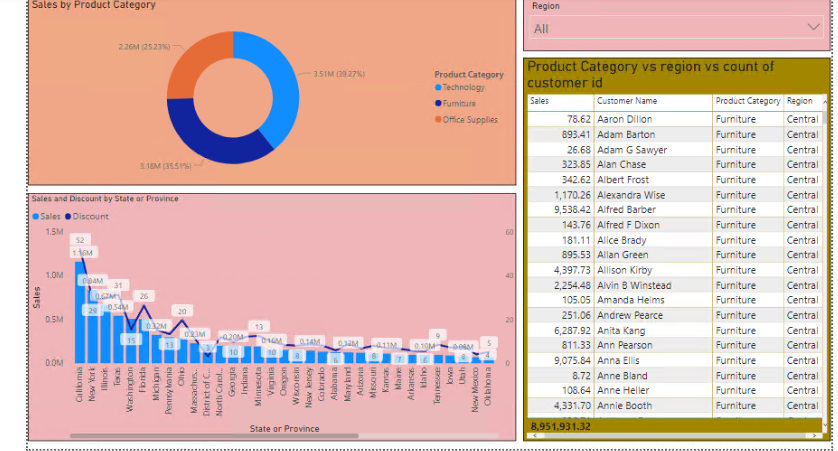

Layout of this report page (visuals, bound fields, positions):
{"tool":"powerbi","page":{"name":"Sales_report","canvas":[1280,720],"ordinal":0},"visuals":[{"type":"tableEx","title":"Product Category vs region vs count of customer id","fields":{"Values":["Orders.Sales","Orders.Customer Name","Orders.Product Category","Orders.Region"]},"box":[789.8,97,490.2,611.1],"z":0},{"type":"lineClusteredColumnComboChart","fields":{"Category":["Orders.State or Province"],"Y":["Orders.Sales"],"Y2":["Orders.Discount"]},"box":[0,313.2,777.9,394.9],"z":1000},{"type":"donutChart","fields":{"Y":["Orders.Sales"],"Category":["Orders.Product Category"]},"box":[0,0,777.9,299.6],"z":2000},{"type":"slicer","fields":{"Values":["Orders.Region"]},"box":[789.1,0,489.6,86.4],"z":3000}]}

Visuals, with their boxes in screenshot pixels (x1, y1, x2, y2):
"Product Category vs region vs count of customer id" tableEx: left=524, top=60, right=827, bottom=438
lineClusteredColumnComboChart - Orders.State or Province x Orders.Sales: left=35, top=194, right=516, bottom=438
donutChart - Orders.Sales x Orders.Product Category: left=35, top=0, right=516, bottom=185
slicer - Orders.Region: left=523, top=0, right=826, bottom=53
